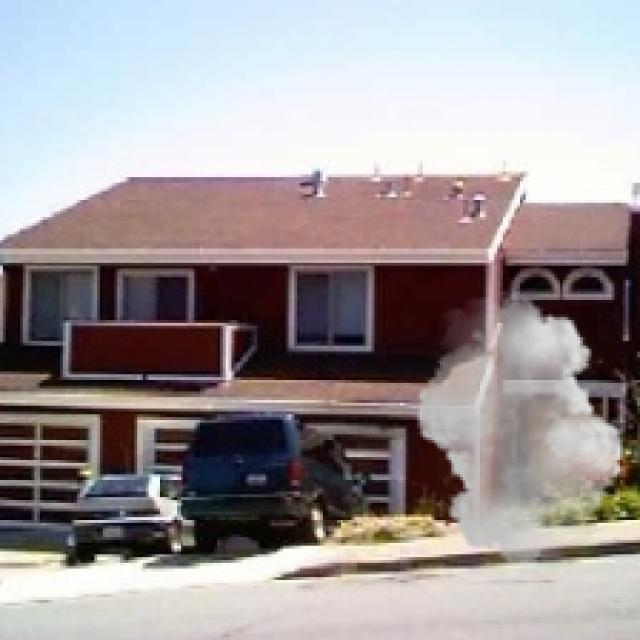smoke: (408, 292, 632, 574)
